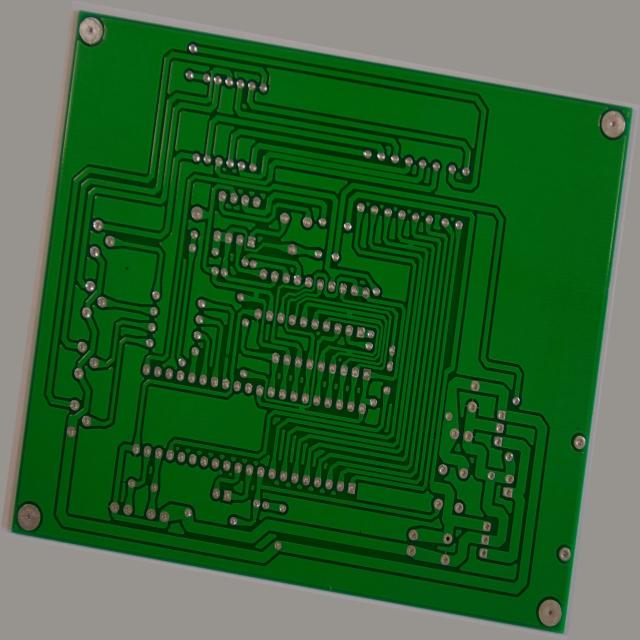short: (238, 294, 254, 314), (401, 203, 416, 220), (349, 344, 364, 359), (343, 299, 358, 313), (307, 419, 320, 434)
